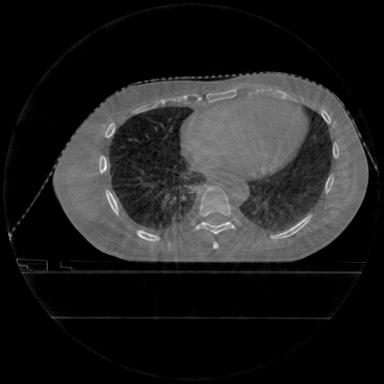body: (53, 73, 368, 261)
cord: (194, 186, 241, 249)
paru kanan: (110, 107, 206, 228)
paru kiri: (240, 108, 332, 231)
